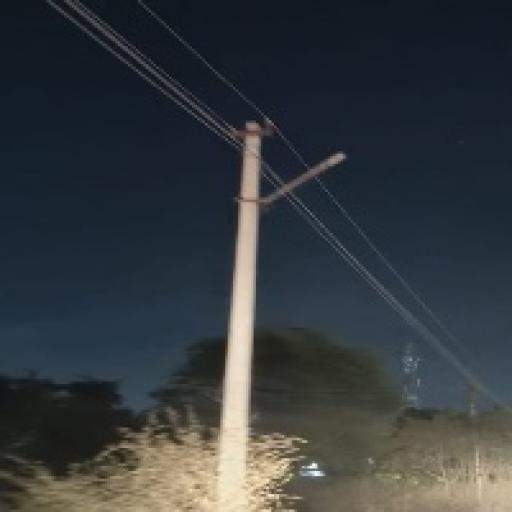Not Working: (303, 145, 359, 180)
